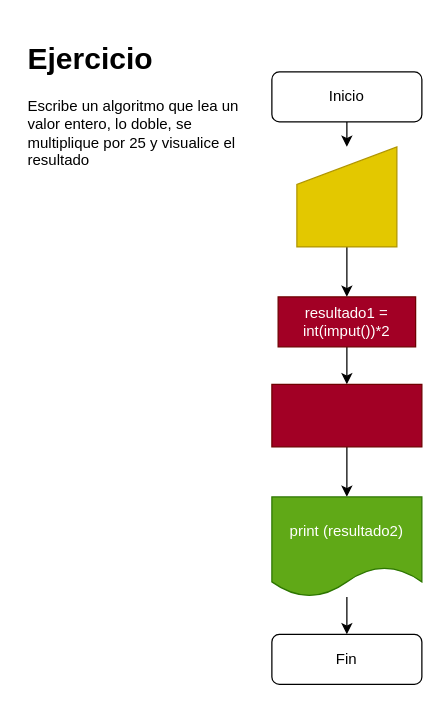
Some shapes in this 444 by 706 pixel diagram are drawn without their labels. The centre of each missing label's shape, as x and y in pixels:
"Lectura int(imput())" belongs at point (346, 196).
"resultado2 = resultado1*25" belongs at point (346, 415).
